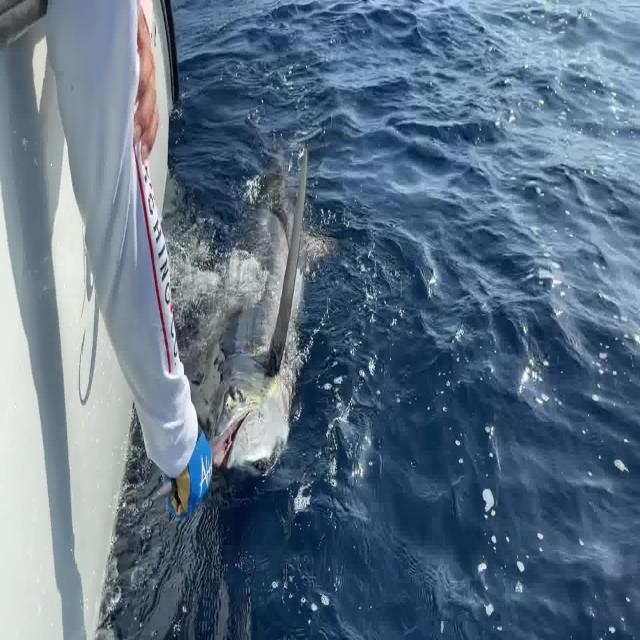Liberacion segura: (148, 128, 340, 507)
